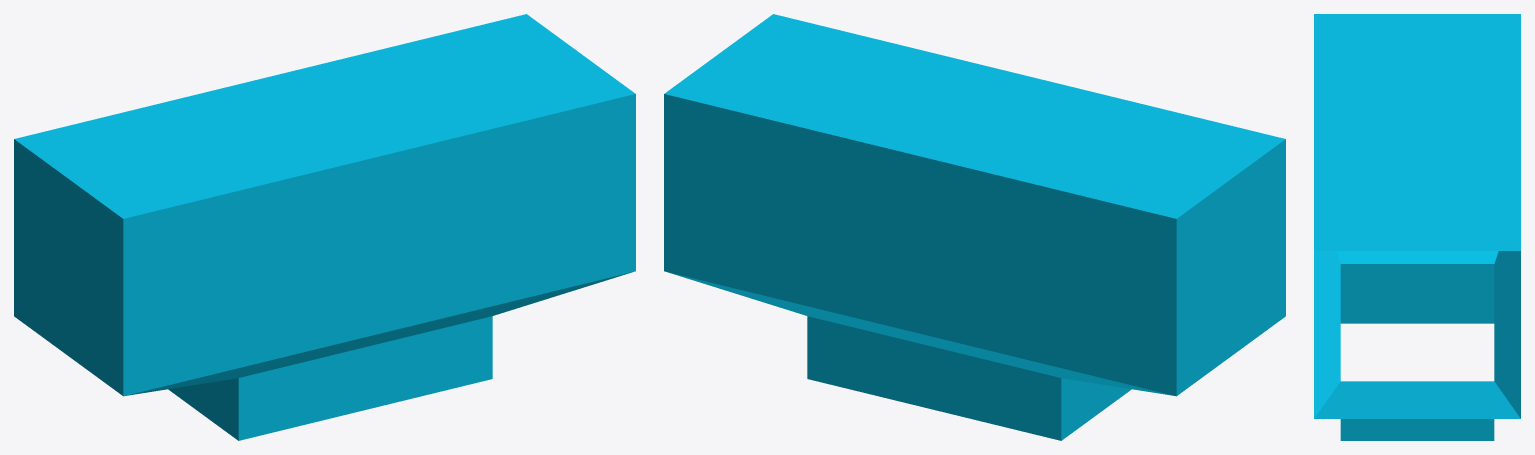
The model's file is scope_02.fbx.
3 views of the same model, side by side, from view 1: azimuth 30°, elevation 25°; view 2: azimuth 150°, elevation 25°; view 3: azimuth 270°, elevation 25° (orthographic). The views are drawn at different scales.
Visible parts, largest first — view 1: scope_1; view 2: scope_1; view 3: scope_1.
Part boxes in pixels (x1=…): scope_1: x1=14, y1=14, x2=635, y2=440; scope_1: x1=664, y1=14, x2=1285, y2=440; scope_1: x1=1314, y1=14, x2=1520, y2=440.
Bounding box in the file's own units: 330 × 162 × 122.
